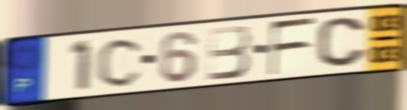1: (68, 38, 95, 94)
6: (157, 30, 199, 85)
B: (206, 24, 253, 83)
C: (315, 16, 369, 70), (95, 35, 146, 89)
F: (268, 15, 318, 78)
